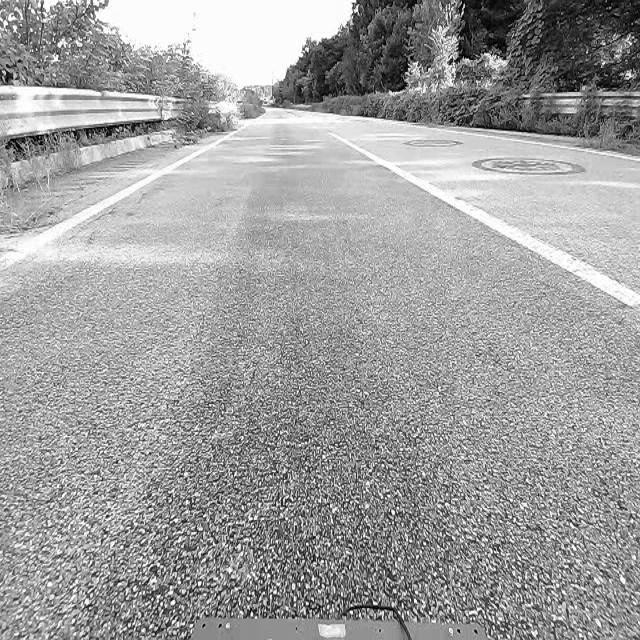Lane: (332, 127, 640, 308), (331, 133, 639, 307), (0, 113, 250, 280), (0, 126, 243, 271)
